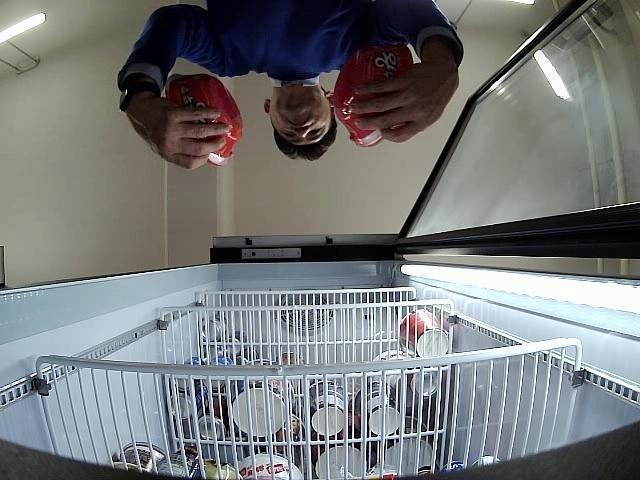10_wangTtukkeong: (334, 44, 414, 146), (165, 74, 242, 166)
